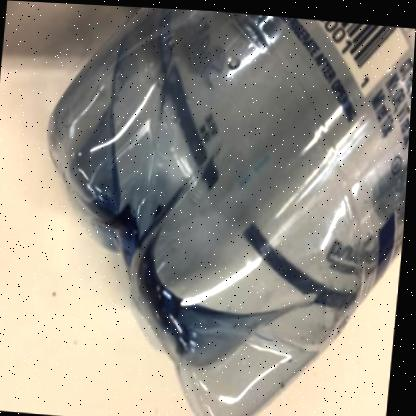Plastic: (49, 6, 416, 416)
